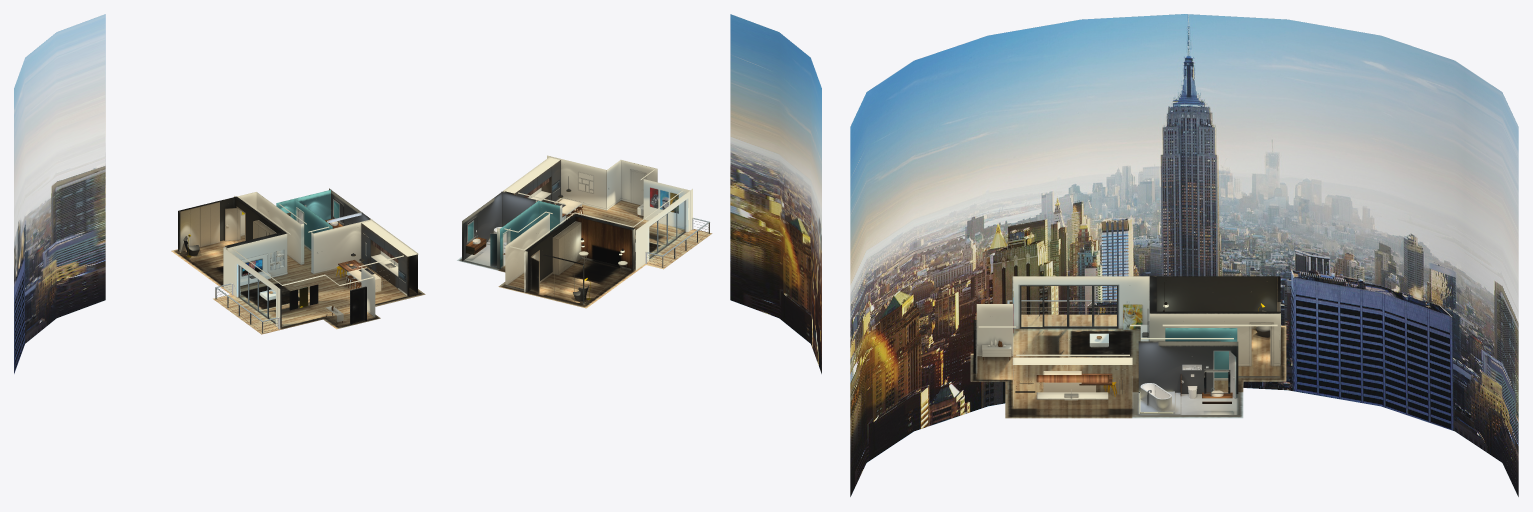
The model's file is fang.gltf.
3 renders of one model, left to right at view 1: azimuth 30°, elevation 25°; view 2: azimuth 150°, elevation 25°; view 3: azimuth 270°, elevation 25°, orthographic. The views are drawn at different scales.
Parts seen in each view (by area): view 1: SM_BG, SM_Floor_surfaceShader1_0, SM_HallFrames_miniCounter_SkirtingBoard, SM_wallKitchen_q1, SM_KitchenPanel, SM_WallLiving_q5, SM_RoomCabs, SM_PaintingsWindow_Rails, SM_Doors, SM_WallLiving_Q2_3, SM_KitchenBath_WALL, SM_WallLiving_Q3_4 (+3 smaller); view 2: SM_BG, SM_Floor_surfaceShader1_0, SM_WallLiving_Q3_4, SM_WallLiving_q5, SM_wallKitchen_q1, SM_HallFrames_miniCounter_SkirtingBoard, SM_KitchenPanel, SM_RoomCabs, SM_KitchenBath_WALL, SM_Doors, SM_PaintingsWindow_Rails, SM_WallLiving_Q2_3 (+2 smaller); view 3: SM_BG, SM_Floor_surfaceShader1_0, SM_Room_WALL, SM_wallKitchen_q1, SM_WallLiving_q5, SM_WallLiving_Q2_3, SM_KitchenPanel, SM_PaintingsWindow_Rails, SM_HallFrames_miniCounter_SkirtingBoard, SM_WallLiving_Q3_4, SM_ToiletTub, SM_Doors (+2 smaller).
Part boxes in pixels (<box>): SM_BG: <box>14,14,105,373</box>; SM_Floor_surfaceShader1_0: <box>171,235,425,334</box>; SM_HallFrames_miniCounter_SkirtingBoard: <box>179,190,407,322</box>; SM_wallKitchen_q1: <box>294,199,371,271</box>; SM_KitchenPanel: <box>361,220,418,295</box>; SM_WallLiving_q5: <box>225,196,287,275</box>; SM_RoomCabs: <box>179,201,276,251</box>; SM_PaintingsWindow_Rails: <box>215,265,318,333</box>; SM_Doors: <box>225,204,366,324</box>; SM_WallLiving_Q2_3: <box>223,247,281,327</box>; SM_KitchenBath_WALL: <box>329,188,417,293</box>; SM_WallLiving_Q3_4: <box>277,267,375,329</box>; SM_BG: <box>730,14,821,373</box>; SM_Floor_surfaceShader1_0: <box>457,199,712,308</box>; SM_WallLiving_Q3_4: <box>547,155,692,230</box>; SM_WallLiving_q5: <box>524,214,635,291</box>; SM_wallKitchen_q1: <box>497,191,562,269</box>; SM_HallFrames_miniCounter_SkirtingBoard: <box>500,197,684,303</box>; SM_KitchenPanel: <box>505,157,560,203</box>; SM_RoomCabs: <box>543,221,584,304</box>; SM_KitchenBath_WALL: <box>462,156,550,261</box>; SM_Doors: <box>490,169,646,293</box>; SM_PaintingsWindow_Rails: <box>635,187,709,267</box>; SM_WallLiving_Q2_3: <box>635,190,690,270</box>; SM_BG: <box>850,14,1518,496</box>; SM_Floor_surfaceShader1_0: <box>970,314,1286,418</box>; SM_Room_WALL: <box>1156,276,1280,311</box>; SM_wallKitchen_q1: <box>1138,341,1238,393</box>; SM_WallLiving_q5: <box>1149,275,1280,365</box>; SM_WallLiving_Q2_3: <box>1012,276,1149,326</box>; SM_KitchenPanel: <box>1012,357,1132,399</box>; SM_PaintingsWindow_Rails: <box>1007,284,1142,332</box>; SM_HallFrames_miniCounter_SkirtingBoard: <box>976,326,1280,408</box>; SM_WallLiving_Q3_4: <box>976,304,1012,353</box>; SM_ToiletTub: <box>1138,374,1223,414</box>; SM_Doors: <box>973,320,1273,398</box>.
Bounding box in the file's own units: 20.53 × 18.61 × 30.4.
36 materials, 35 textured.
